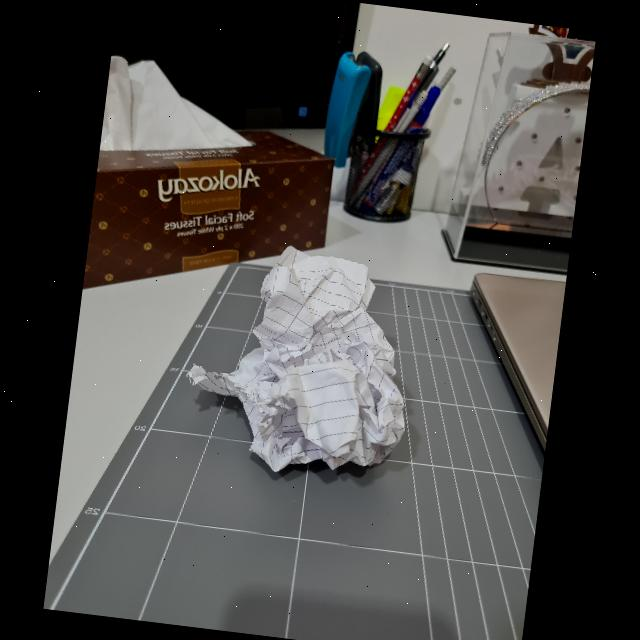trash: (180, 242, 432, 480)
